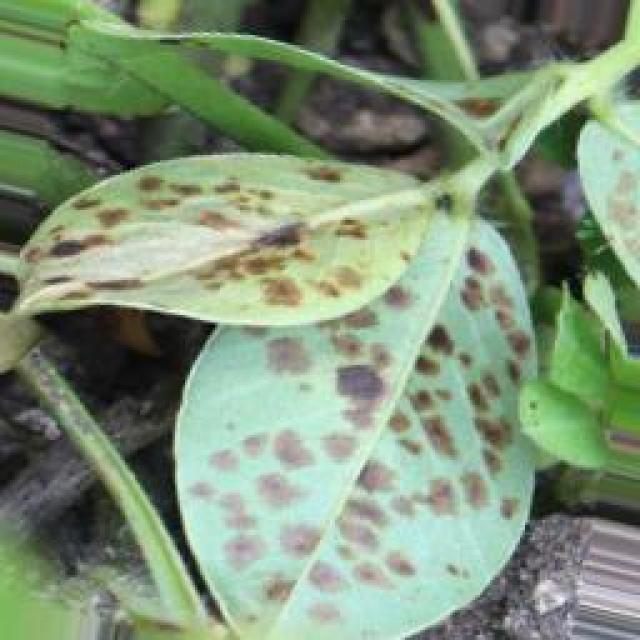Whitefly: (9, 116, 536, 625)
